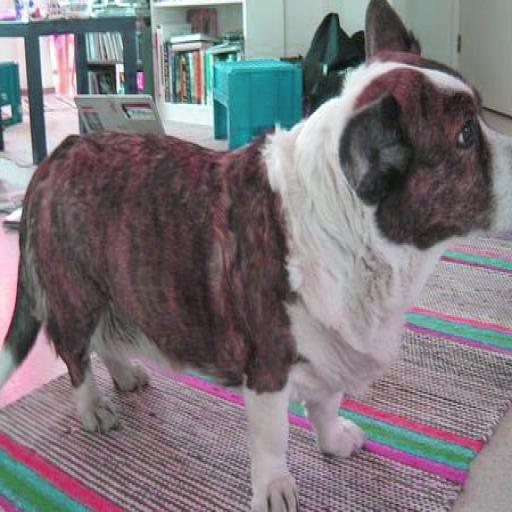dog_face: (329, 8, 512, 243)
